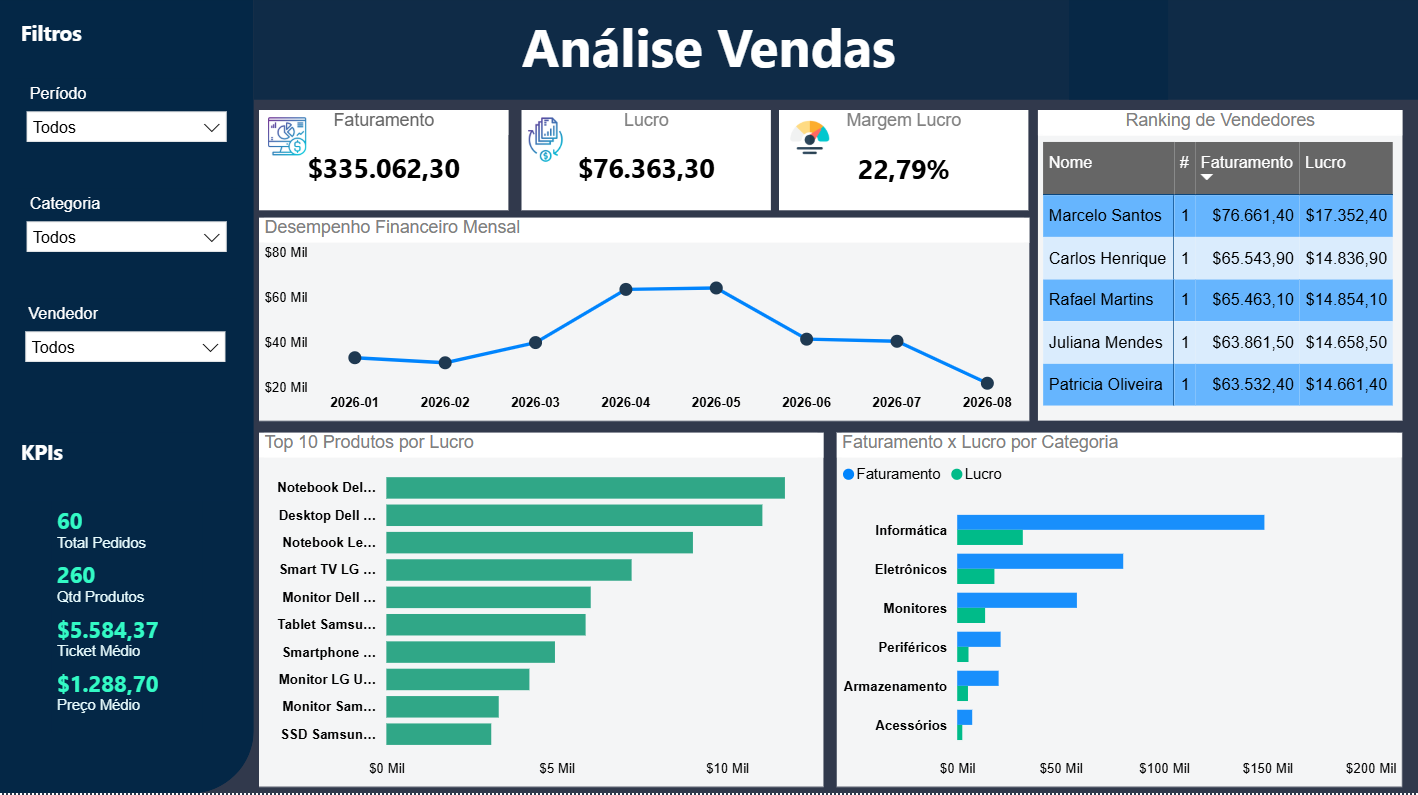

The dashboard page shown, as its layout file describes it:
{"tool":"powerbi","page":{"name":"Análise Vendas","canvas":[1280,720],"ordinal":0},"visuals":[{"type":"shape","box":[229.8,0,823.9,94.1],"z":0},{"type":"card","title":"Faturamento ","fields":{"Values":["public vw_vendas.Faturamento Total"]},"box":[234.5,103.7,225,90],"z":0,"group":"g1"},{"type":"card","title":"Lucro","fields":{"Values":["_Medidas.Lucro Bruto"]},"box":[470.9,103.9,225,90],"z":0,"group":"g2"},{"type":"shape","box":[964.5,0,315.4,94.1],"z":1000},{"type":"image","box":[238.2,70.9,44,112.5],"z":1000,"group":"g1"},{"type":"image","box":[467.2,74.6,50.1,112.5],"z":1000,"group":"g2"},{"type":"shape","box":[0,0,229.8,720],"z":2000},{"type":"textbox","box":[418.1,7.3,443.7,81.9],"z":3000},{"type":"lineChart","title":"Desempenho Financeiro Mensal","fields":{"Category":["D_Calendario.Ano Mês"],"Y":["_Medidas.Faturamento Total"]},"box":[234.7,200.5,694.3,183.4],"z":4000},{"type":"clusteredBarChart","title":"Faturamento x Lucro por Categoria","fields":{"Y":["_Medidas.Faturamento Total","_Medidas.Lucro Bruto"],"Category":["D_Categoria.nome"]},"box":[755.4,394.8,509.7,319],"z":5000},{"type":"card","title":"Margem Lucro","fields":{"Values":["_Medidas.Margem de Lucro"]},"box":[703.6,103.9,225,90.5],"z":6000,"group":"g3"},{"type":"pivotTable","title":"Ranking de Vendedores","fields":{"Values":["_Medidas.Ranking Vendedor","_Medidas.Faturamento Total","_Medidas.Lucro Bruto"],"Rows":["D_Vendedor.nome"]},"box":[936.4,103.9,328.8,279.9],"z":6000},{"type":"group","id":"g1","title":"Grupo 1","box":[234.5,70.9,225,122.8],"z":7000},{"type":"group","id":"g2","title":"Grupo 2","box":[467.2,74.6,228.7,119.3],"z":8000},{"type":"multiRowCard","title":"KPI s","fields":{"Values":["_Medidas.Total Pedidos","_Medidas.Qtd Produtos","_Medidas.Ticket Médio","_Medidas.Preço Médio"]},"box":[46.9,456.1,135.7,210.3],"z":8000,"group":"g5"},{"type":"slicer","fields":{"Values":["D_Calendario.Ano Mês"]},"box":[14.6,75.8,200.5,59.9],"z":9000,"group":"g4"},{"type":"group","id":"g3","title":"Grupo 3","box":[703.6,103.9,225,90.5],"z":9000},{"type":"group","id":"g4","title":"Grupo 4","box":[13.4,17.1,201.7,316.6],"z":10000},{"type":"slicer","fields":{"Values":["D_Categoria.nome"]},"box":[14.6,174.8,200.5,59.9],"z":10000,"group":"g4"},{"type":"slicer","fields":{"Values":["D_Vendedor.nome"]},"box":[13.4,273.8,200.5,59.9],"z":11000,"group":"g4"},{"type":"group","id":"g5","title":"Grupo 5","box":[14.7,394.8,200.5,271.6],"z":11000},{"type":"barChart","title":"Top 10 Produtos por Lucro","fields":{"Y":["_Medidas.Lucro Bruto"],"Category":["D_Produto.nome"]},"box":[234.7,394.8,508.5,319],"z":12000},{"type":"textbox","box":[14.6,17.1,200.5,58.7],"z":15001,"group":"g4"},{"type":"image","box":[708.5,106.3,46.5,45.2],"z":15002,"group":"g3"},{"type":"textbox","box":[14.7,394.8,200.5,61.5],"z":15003,"group":"g5"}]}

Visuals, with their boxes in screenshot pixels (x1, y1, x2, y2), scaled from the page's 1280x720 canvas onto the 1418x795 screenshot:
shape: BBox(255, 0, 1167, 104)
"Faturamento " card: BBox(260, 115, 509, 214)
"Lucro" card: BBox(522, 115, 771, 214)
shape: BBox(1068, 0, 1417, 104)
image: BBox(264, 78, 313, 203)
image: BBox(518, 82, 573, 207)
shape: BBox(0, 0, 255, 794)
textbox: BBox(463, 8, 955, 98)
"Desempenho Financeiro Mensal" lineChart: BBox(260, 221, 1029, 424)
"Faturamento x Lucro por Categoria" clusteredBarChart: BBox(837, 436, 1401, 788)
"Margem Lucro" card: BBox(779, 115, 1029, 215)
"Ranking de Vendedores" pivotTable: BBox(1037, 115, 1402, 424)
"Grupo 1" group: BBox(260, 78, 509, 214)
"Grupo 2" group: BBox(518, 82, 771, 214)
"KPI s" multiRowCard: BBox(52, 504, 202, 736)
slicer - D_Calendario.Ano Mês: BBox(16, 84, 238, 150)
"Grupo 3" group: BBox(779, 115, 1029, 215)
"Grupo 4" group: BBox(15, 19, 238, 368)
slicer - D_Categoria.nome: BBox(16, 193, 238, 259)
slicer - D_Vendedor.nome: BBox(15, 302, 237, 368)
"Grupo 5" group: BBox(16, 436, 238, 736)
"Top 10 Produtos por Lucro" barChart: BBox(260, 436, 823, 788)
textbox: BBox(16, 19, 238, 84)
image: BBox(785, 117, 836, 167)
textbox: BBox(16, 436, 238, 504)
